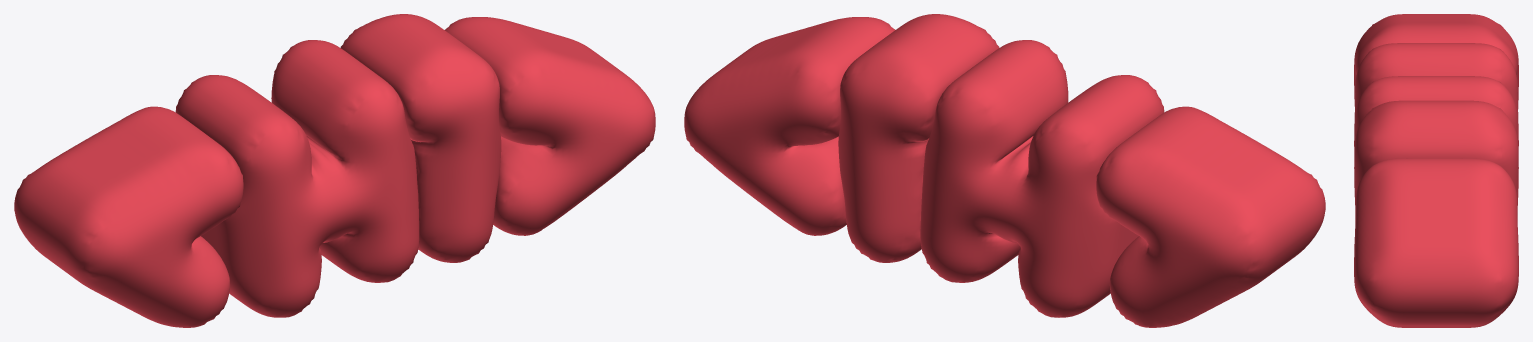
3 renders of one model, left to right at view 1: azimuth 30°, elevation 25°; view 2: azimuth 150°, elevation 25°; view 3: azimuth 270°, elevation 25°, orthographic. The views are drawn at different scales.
Visible parts, largest first — view 1: Text.007; view 2: Text.007; view 3: Text.007.
Boxes of the visible parts, x1,y1,x2,y2 form: Text.007: (14, 14, 655, 327); Text.007: (684, 14, 1325, 327); Text.007: (1354, 14, 1518, 327).
Bounding box in the file's own units: 19.18 × 7.04 × 5.27.
